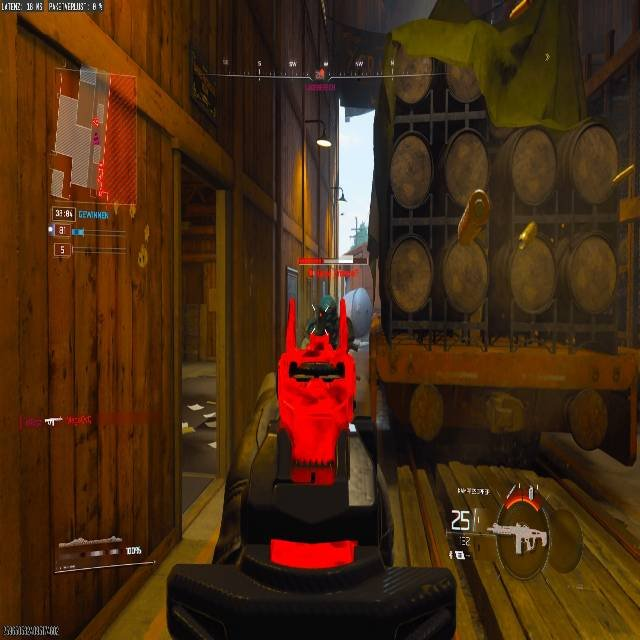head: (319, 295, 334, 314)
player: (304, 295, 339, 350), (445, 508, 472, 565)
